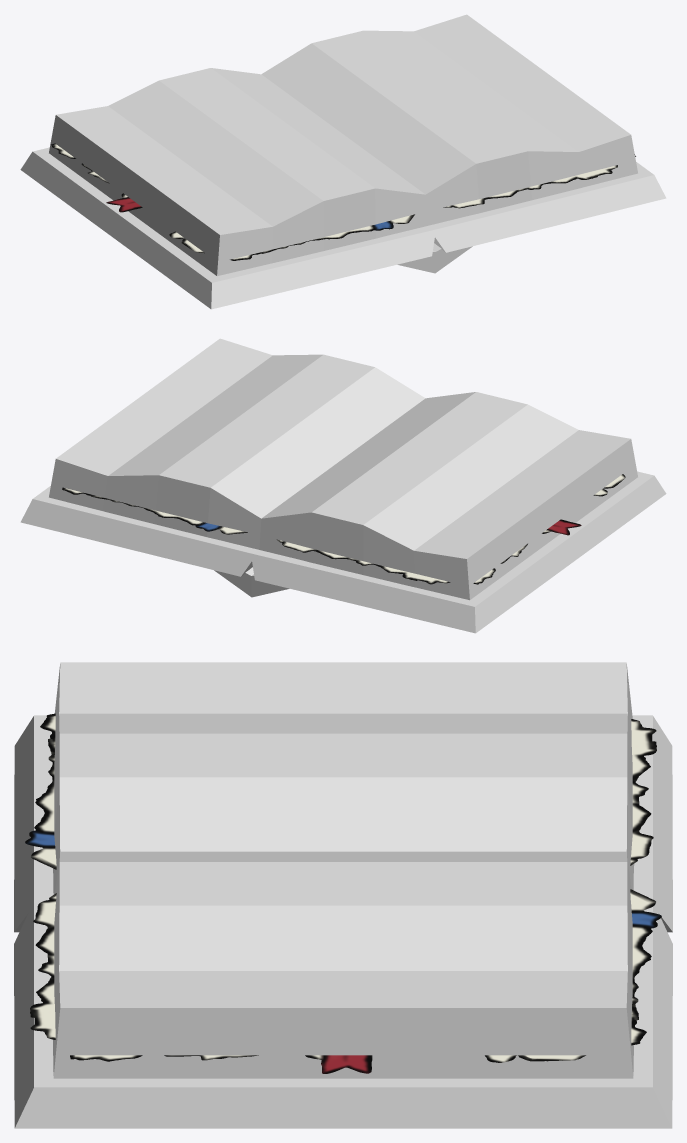
The model's file is Grimoire.fbx.
3 renders of one model, top to bottom at view 1: azimuth 30°, elevation 25°; view 2: azimuth 150°, elevation 25°; view 3: azimuth 270°, elevation 25°, orthographic. The views are drawn at different scales.
Visible parts, largest first — view 1: PagesR, PagesL, CoverR, CoverL, LoosePageR, Spine, LoosePageL; view 2: PagesR, PagesL, CoverR, CoverL, LoosePageR, Spine, LoosePageL; view 3: PagesL, PagesR, CoverL, CoverR, LoosePageL, LoosePageR.
Boxes of the visible parts, left/top/right/bottom form: PagesR: left=49, top=68, right=427, bottom=276; PagesL: left=261, top=14, right=637, bottom=225; CoverR: left=20, top=147, right=435, bottom=309; CoverL: left=428, top=162, right=666, bottom=252; LoosePageR: left=51, top=143, right=414, bottom=260; Spine: left=397, top=243, right=472, bottom=273; LoosePageL: left=443, top=154, right=635, bottom=208; PagesR: left=259, top=392, right=637, bottom=600; PagesL: left=49, top=338, right=425, bottom=549; CoverR: left=252, top=471, right=666, bottom=633; CoverL: left=20, top=486, right=258, bottom=576; LoosePageR: left=276, top=474, right=625, bottom=584; Spine: left=214, top=567, right=289, bottom=597; LoosePageL: left=62, top=487, right=247, bottom=534; PagesL: left=53, top=851, right=634, bottom=1078; PagesR: left=52, top=662, right=634, bottom=894; CoverL: left=14, top=902, right=672, bottom=1128; CoverR: left=14, top=715, right=672, bottom=932; LoosePageL: left=30, top=889, right=661, bottom=1073; LoosePageR: left=25, top=713, right=656, bottom=869.
Bounding box in the file's own units: 1.28 × 0.2363 × 0.8957.
2 materials, 1 textured.
